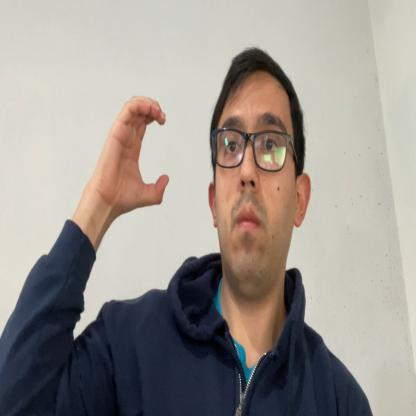C: (105, 93, 170, 216)
